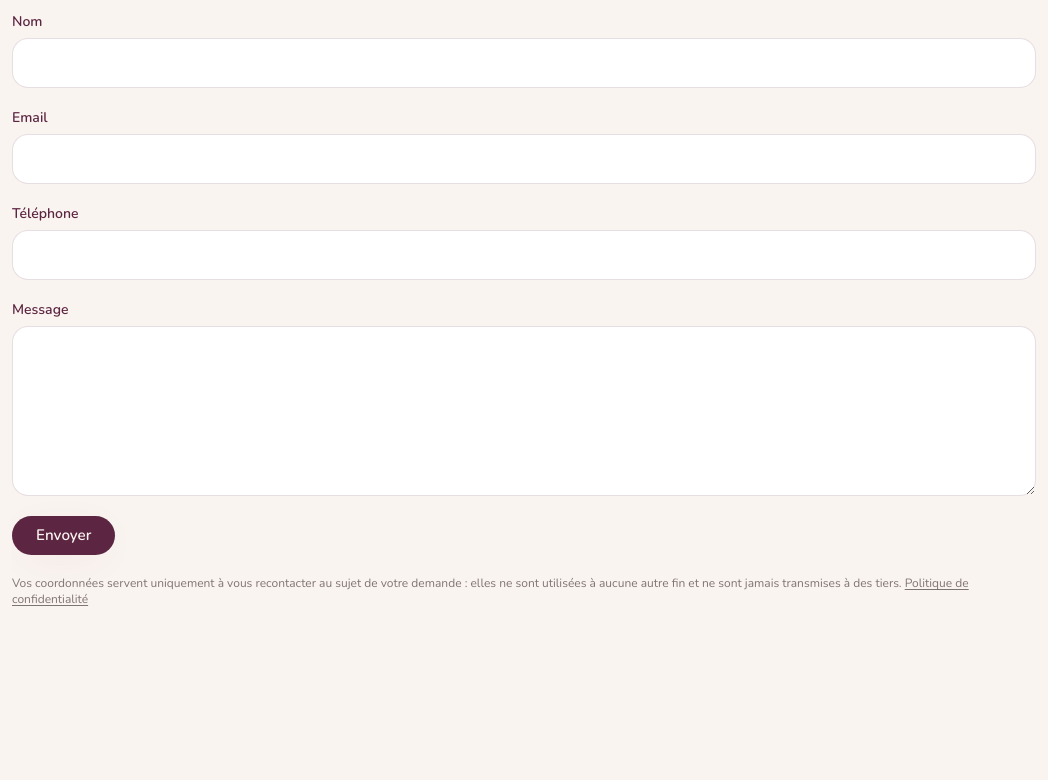
it: ContactForm › rejects a malformed email
In the field labelled "Nom": (524, 63) [12, 38, 1036, 88], type "Camille"
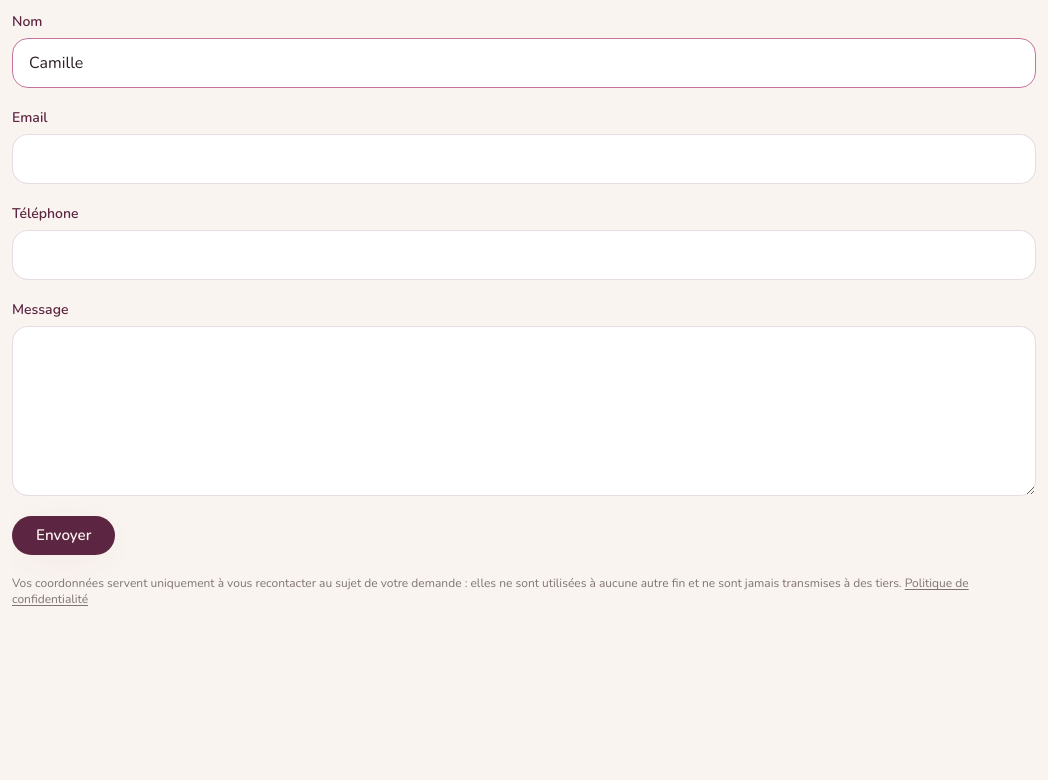
In the field labelled "Email": (524, 159) [12, 134, 1036, 184], type "camille@"
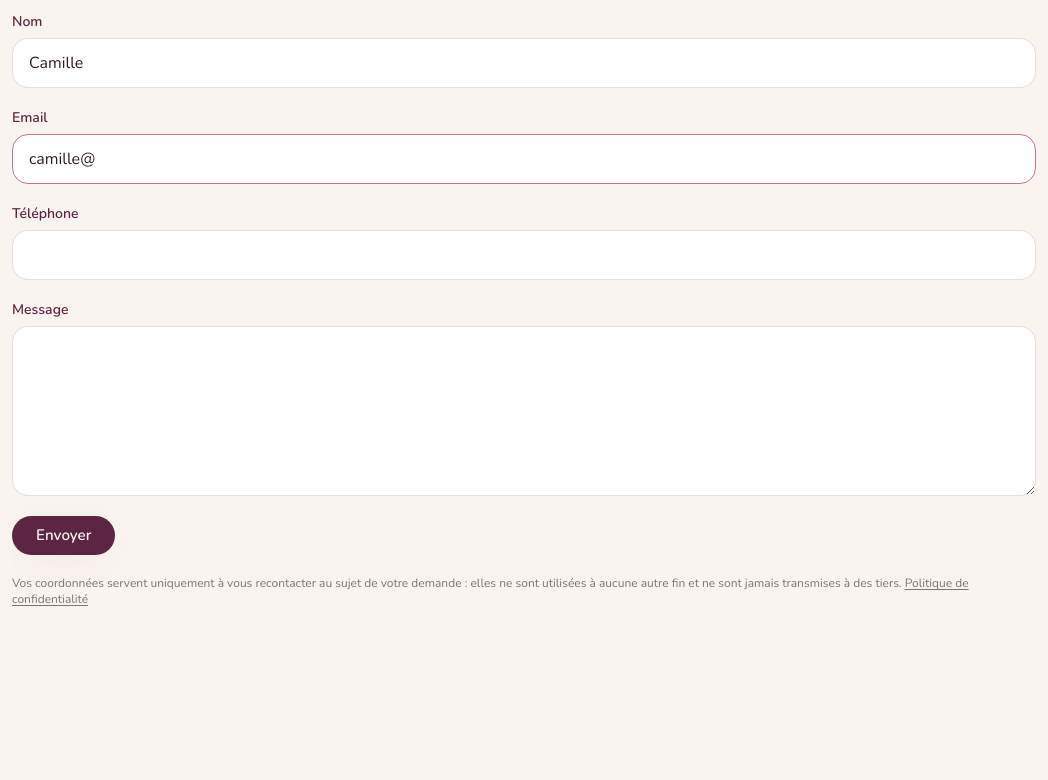
In the field labelled "Téléphone": (524, 255) [12, 230, 1036, 280], type "06 12 34 56 78"
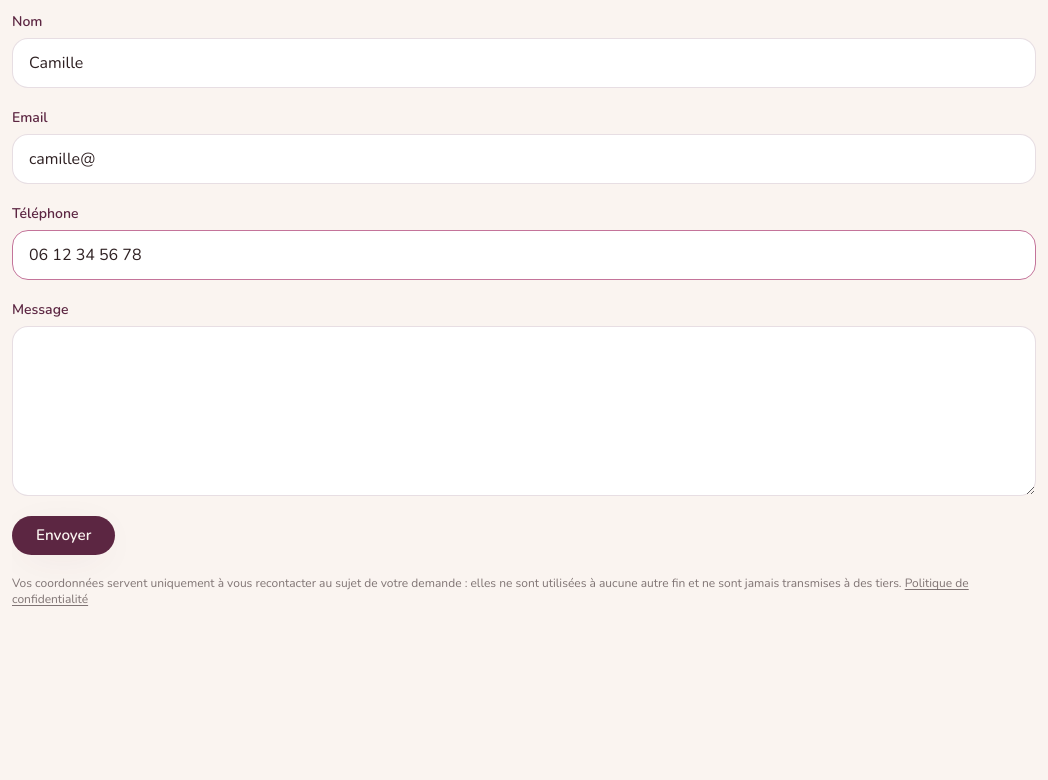
In the text box labelled "Message": (524, 411) [12, 326, 1036, 496], type "Bonjour"
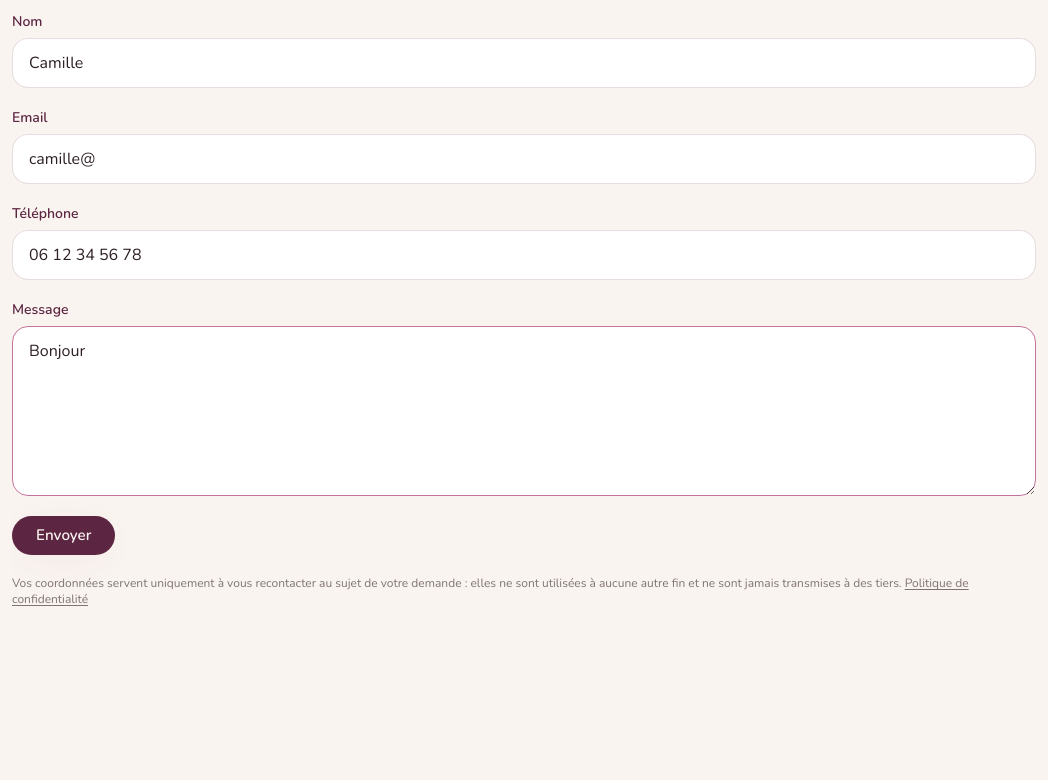
Click the button "Envoyer": (64, 536) [12, 516, 115, 555]
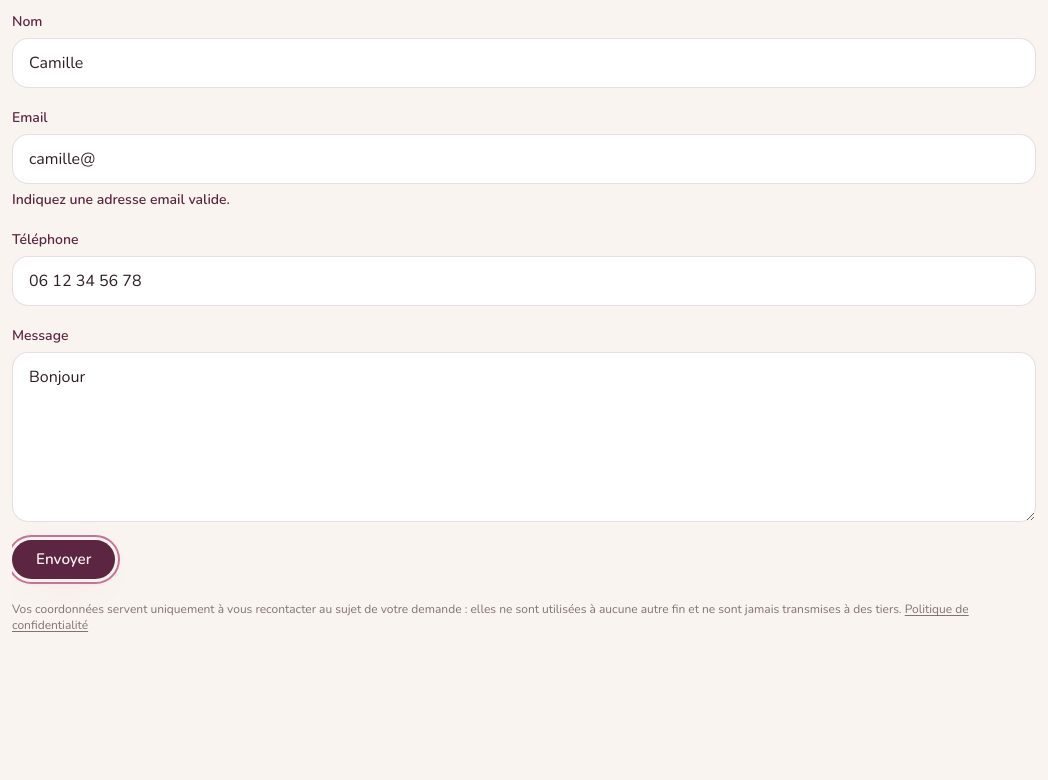
Now the text "Indiquez une adresse email valide." is shown, box [12, 190, 230, 209]
